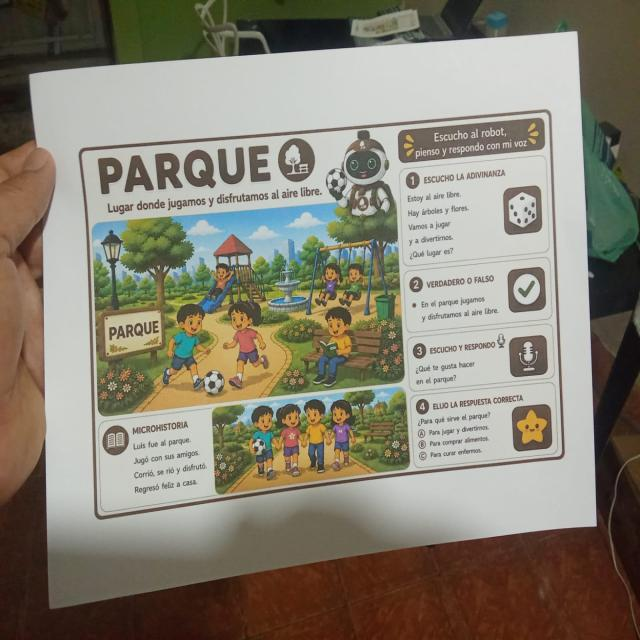parque: (75, 104, 570, 525)
